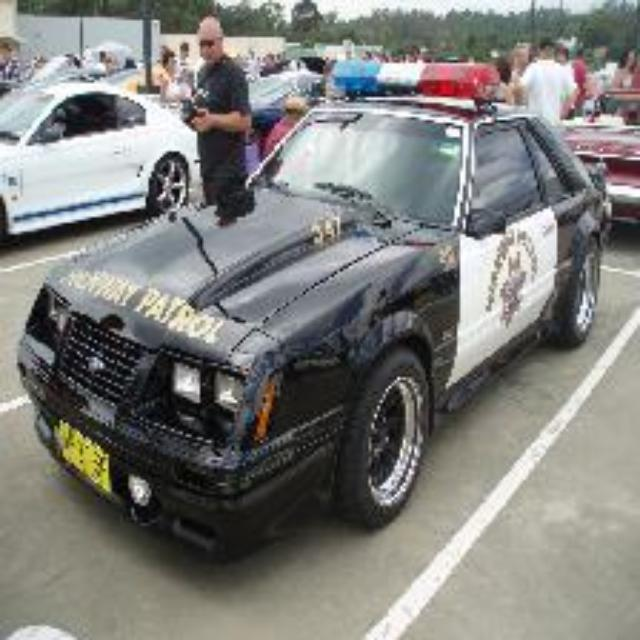emergency: (14, 61, 612, 566)
